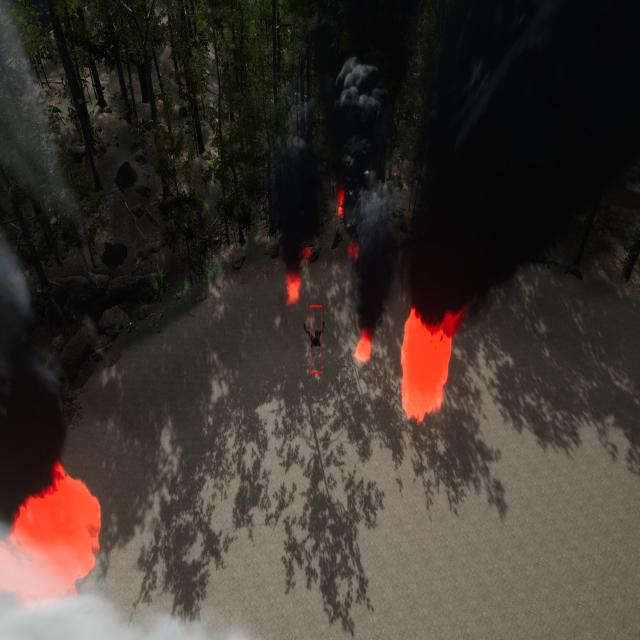Human: (296, 304, 331, 354)
